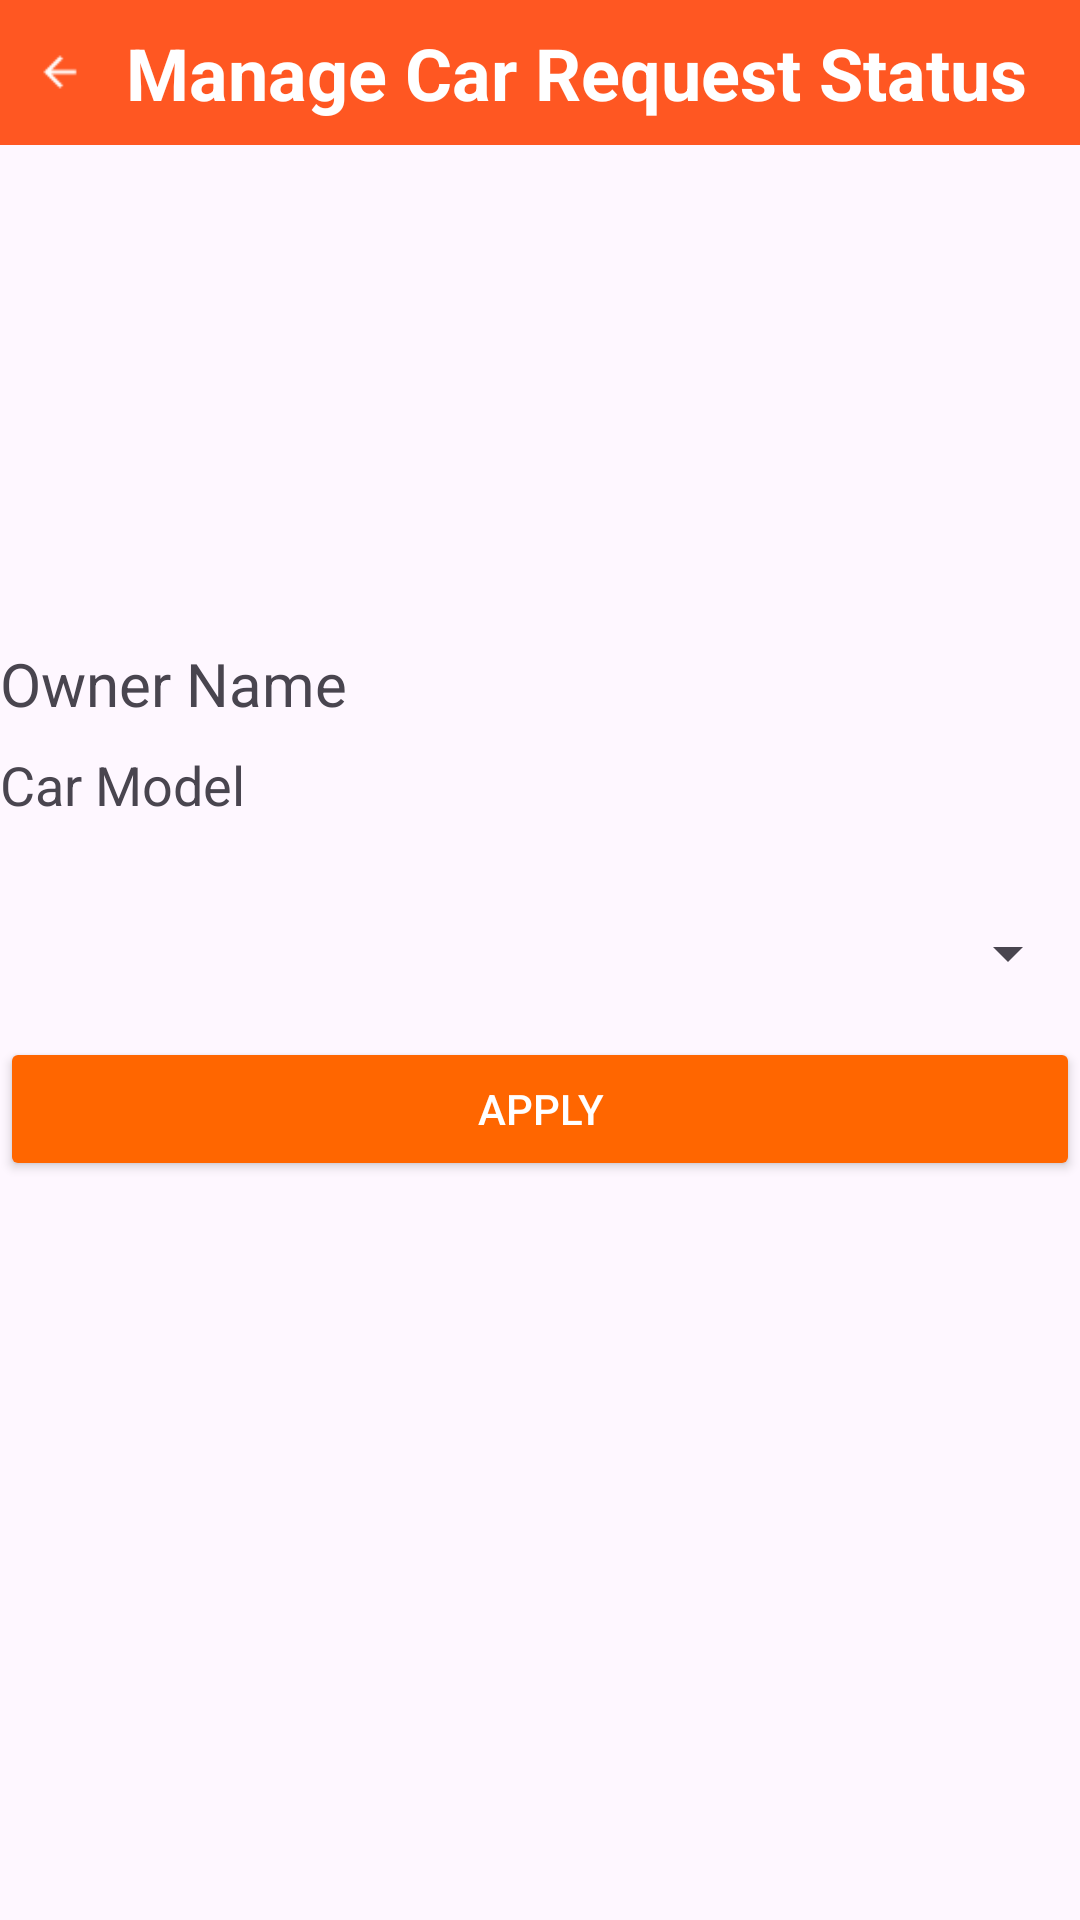

Icon click points for this 1080 × 1920 phone screenshot, format [x,y]:
Back: [60,72]
